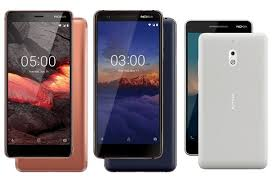nokia: (4, 5, 74, 159), (94, 6, 164, 160), (196, 30, 268, 172)
